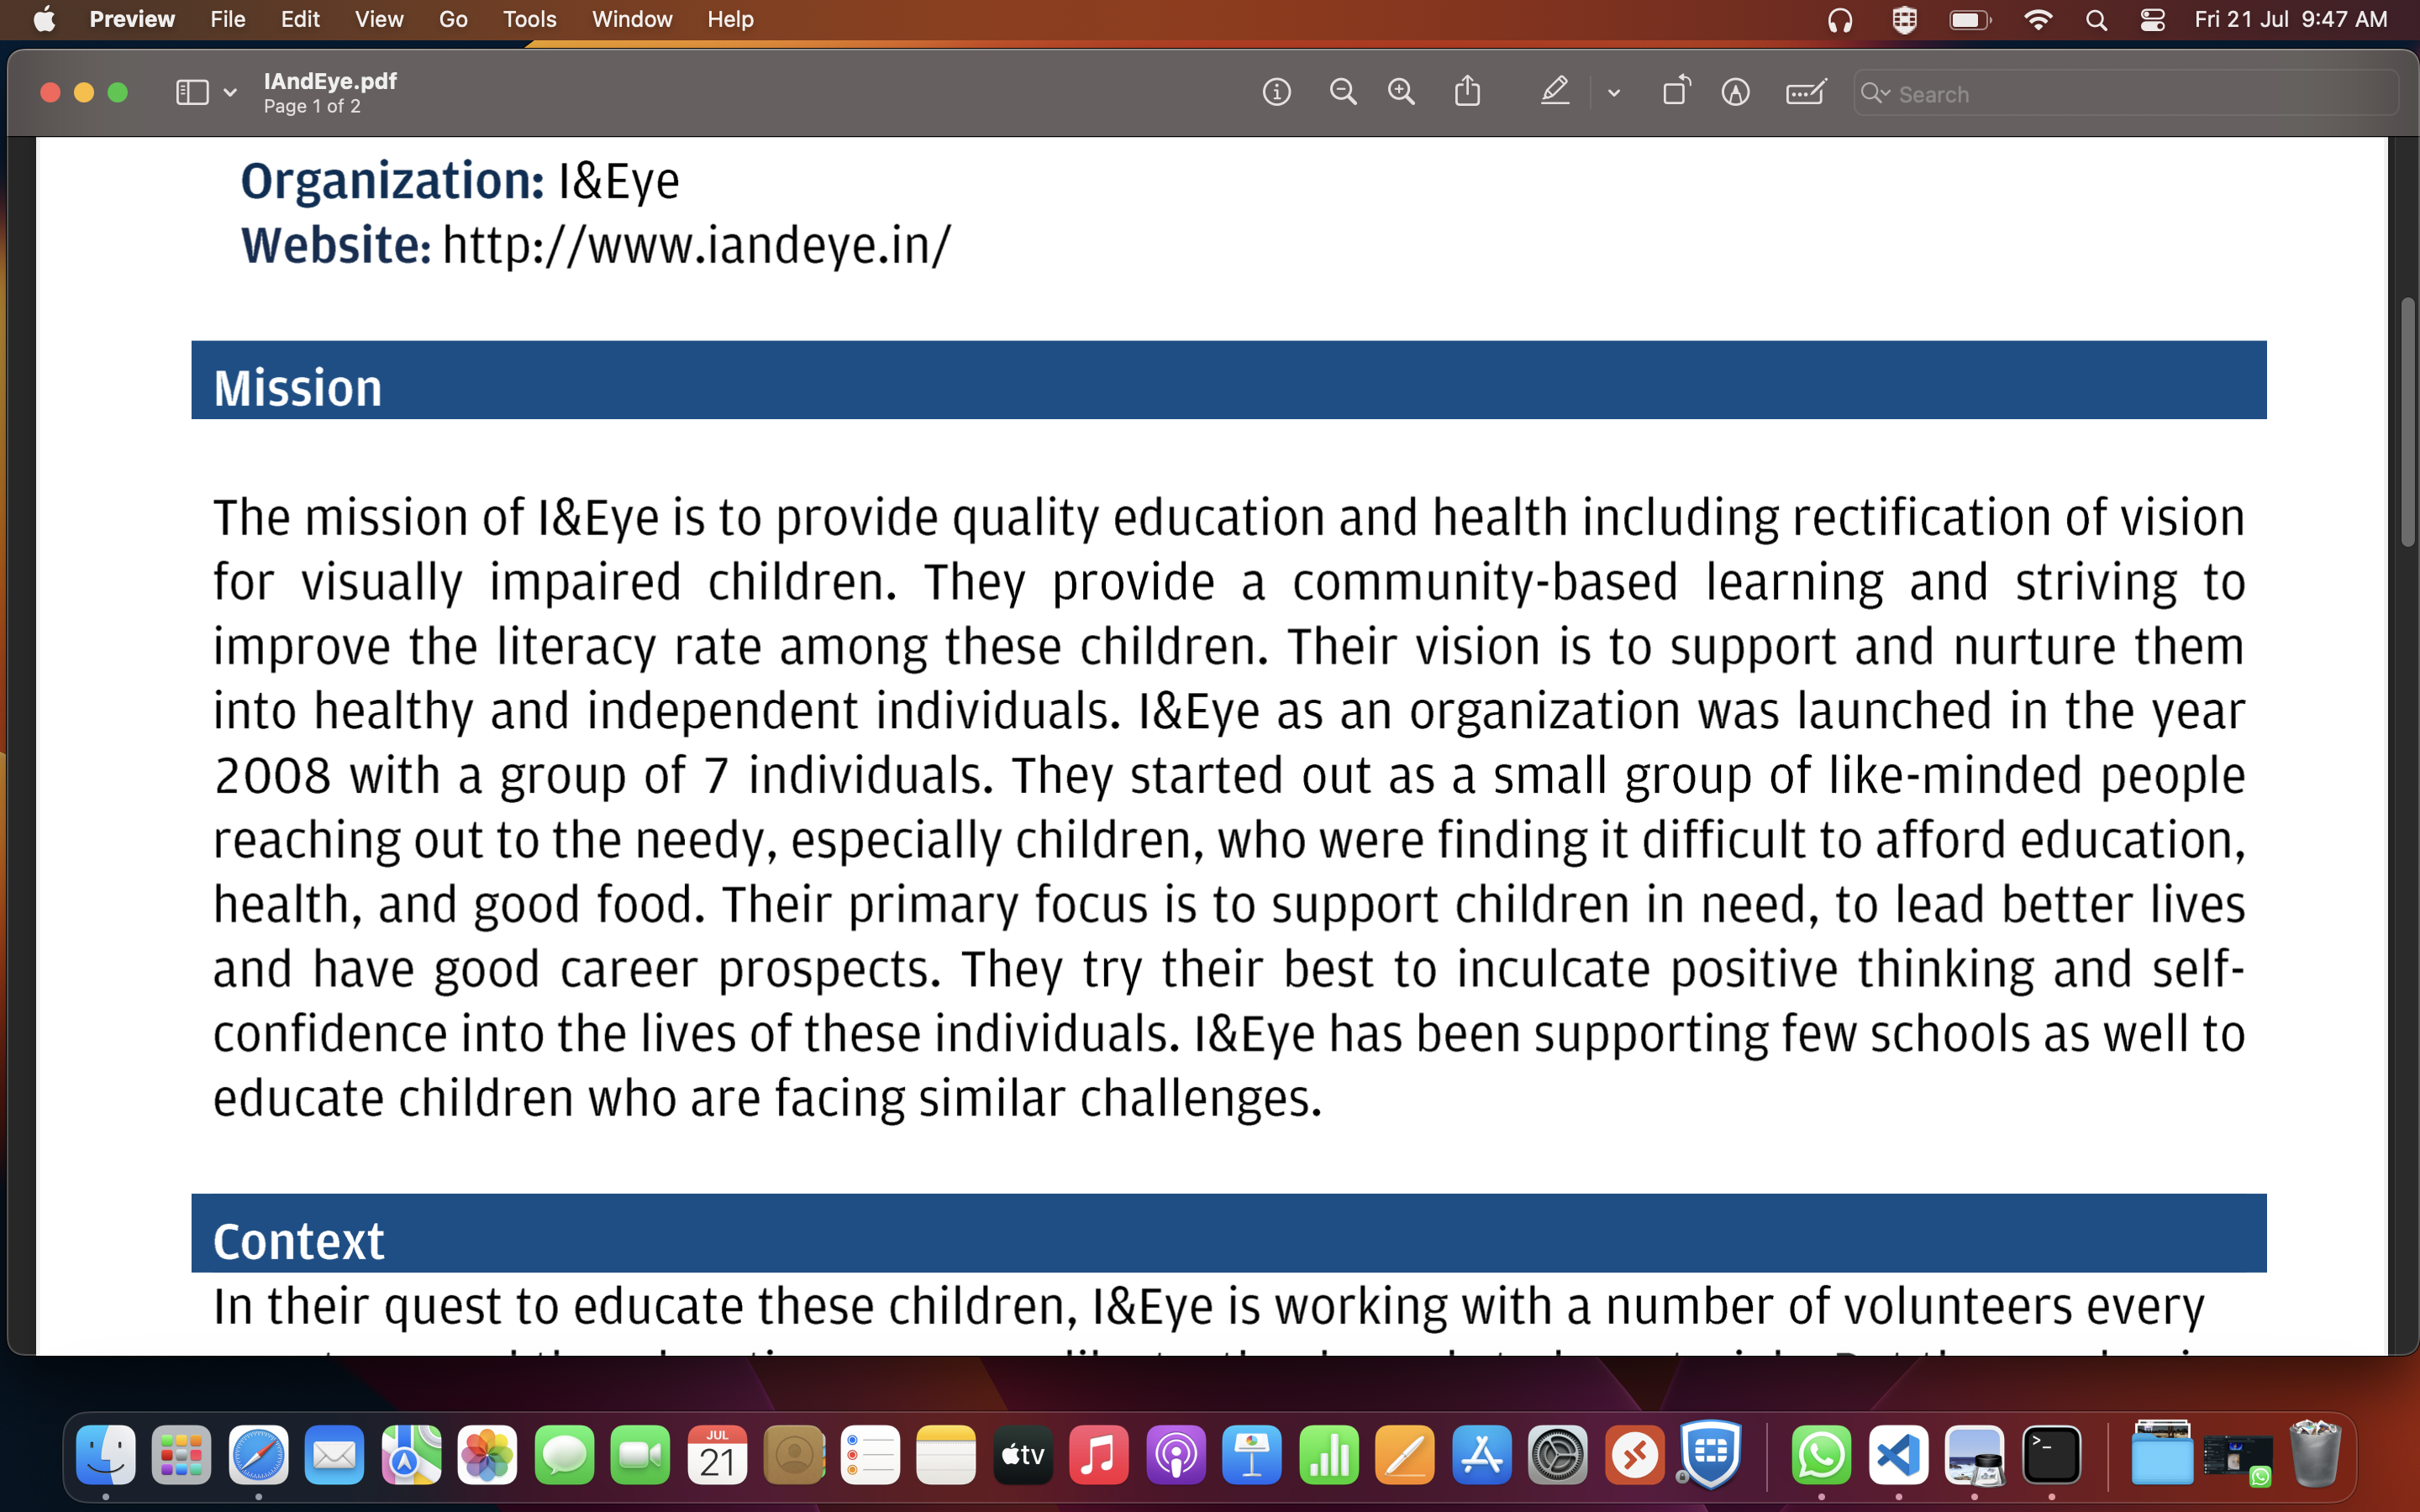Paragraph: (178, 481, 2281, 1144), (202, 1282, 2235, 1331), (240, 202, 984, 277), (244, 145, 723, 206), (192, 1186, 411, 1268), (192, 350, 387, 411)
